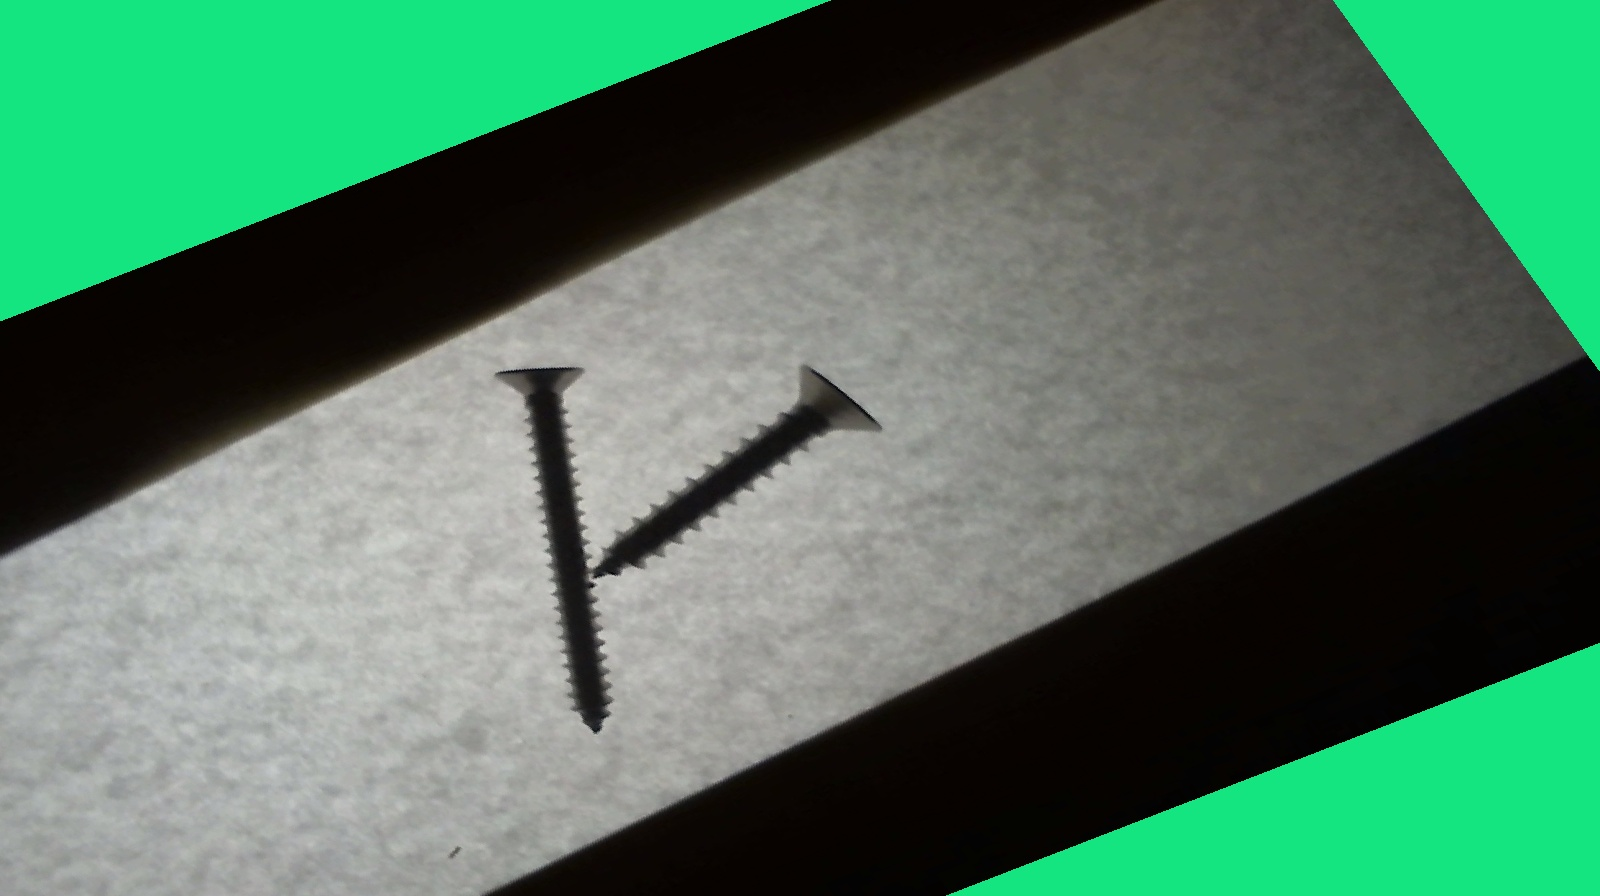S001: (516, 349, 922, 591)
S002: (362, 341, 801, 742)
